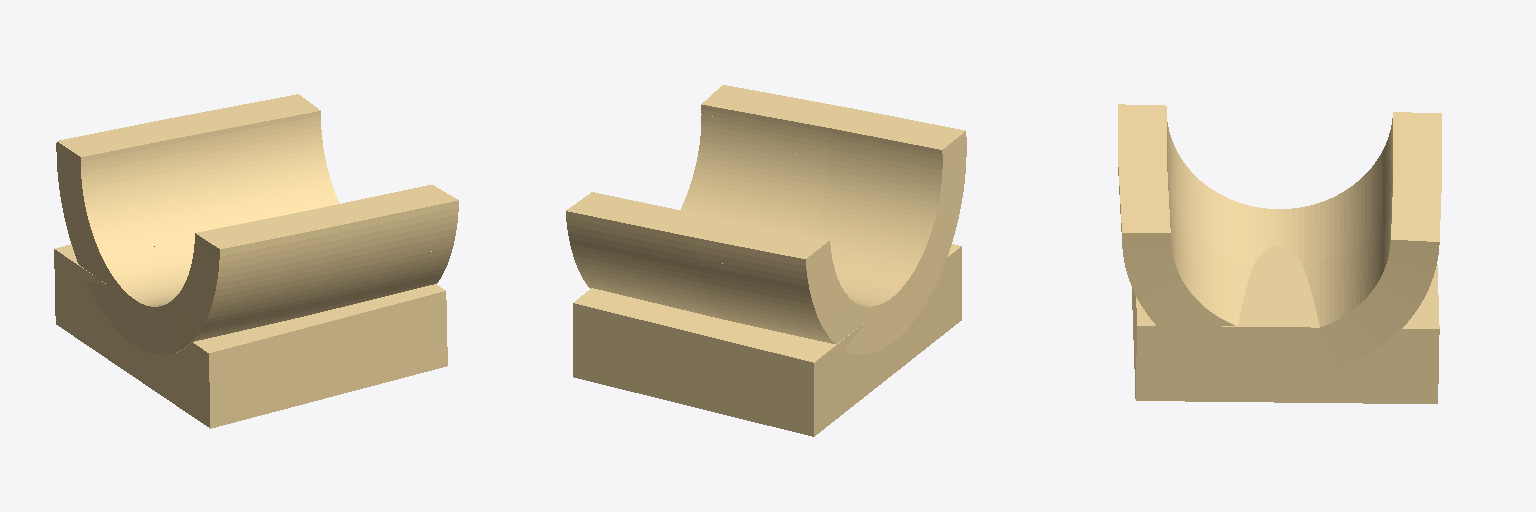
File: wooden_short.obj
3 views of the same model, side by side, from view 1: azimuth 30°, elevation 25°; view 2: azimuth 150°, elevation 25°; view 3: azimuth 270°, elevation 25° (orthographic).
Visible parts, largest first — view 1: wooden_short; view 2: wooden_short; view 3: wooden_short.
Part boxes in pixels (bbox=[...]): wooden_short: bbox=[54, 94, 458, 428]; wooden_short: bbox=[566, 85, 966, 436]; wooden_short: bbox=[1118, 104, 1441, 403].
Size of the model in its own units: 0.2377 by 0.1731 by 0.2693.